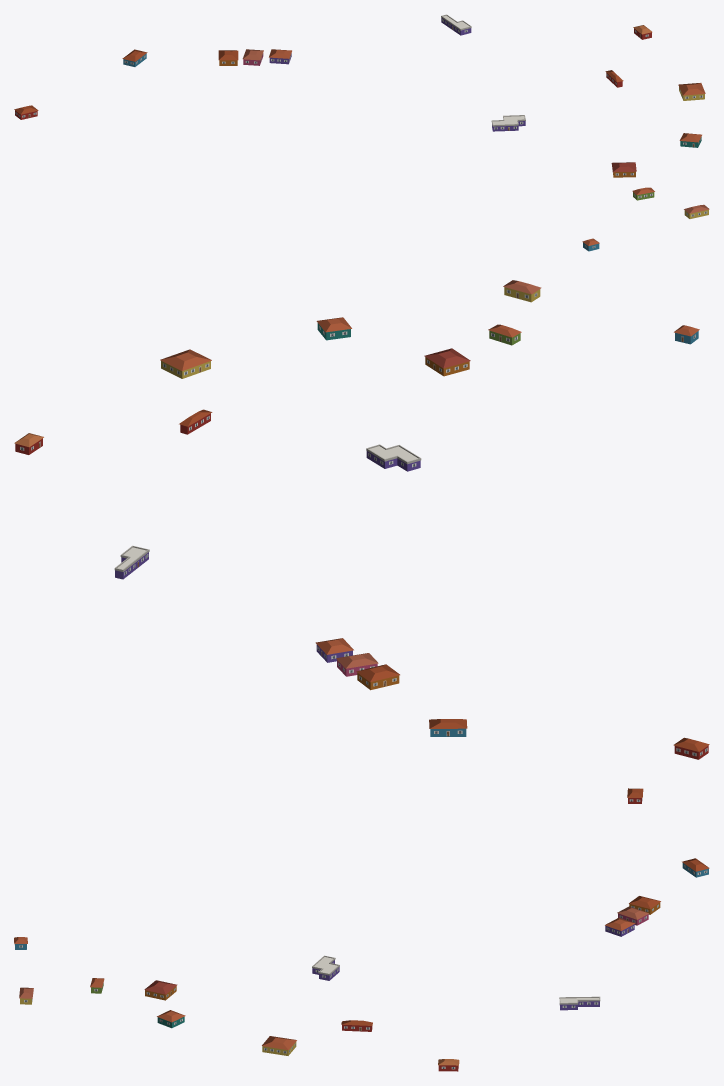
Rendered from msb_oranjestad_m10_1.glb.
The picture shows the model from 3 angles, top to bottom: view 1: azimuth 30°, elevation 25°; view 2: azimuth 150°, elevation 25°; view 3: azimuth 270°, elevation 25°; orthographic projection. The views are drawn at different scales.
Visible parts, largest first — view 1: msb_oranjestad_m10_1_lod0; view 2: msb_oranjestad_m10_1_lod0; view 3: msb_oranjestad_m10_1_lod0.
Part boxes in pixels (left/top/right/bottom): msb_oranjestad_m10_1_lod0: left=14, top=14, right=709, bottom=251; msb_oranjestad_m10_1_lod0: left=14, top=280, right=709, bottom=759; msb_oranjestad_m10_1_lod0: left=14, top=788, right=709, bottom=1071.
Size of what is drawn, in the model's own units: 347 by 15.32 by 350.
Materials: 3 (1 with a texture image).
